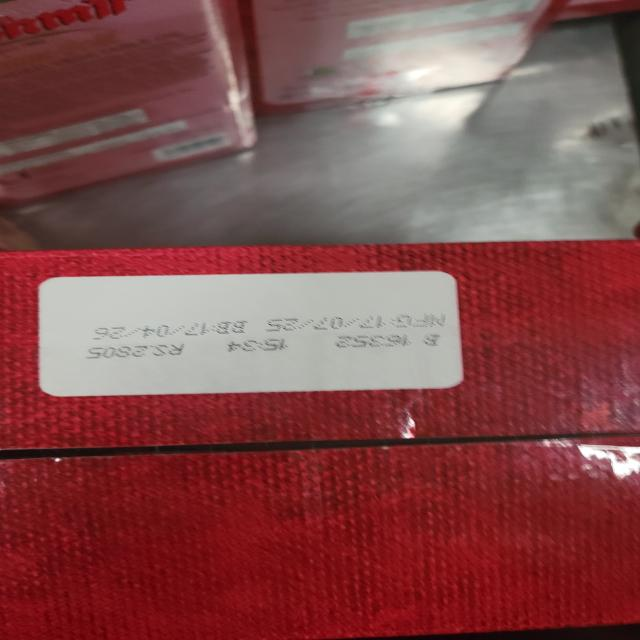BB: (84, 321, 252, 337)
Batch: (334, 332, 456, 350)
MFG: (267, 310, 449, 336)
RS: (85, 345, 195, 361)
TimeStamp: (223, 340, 298, 355)
